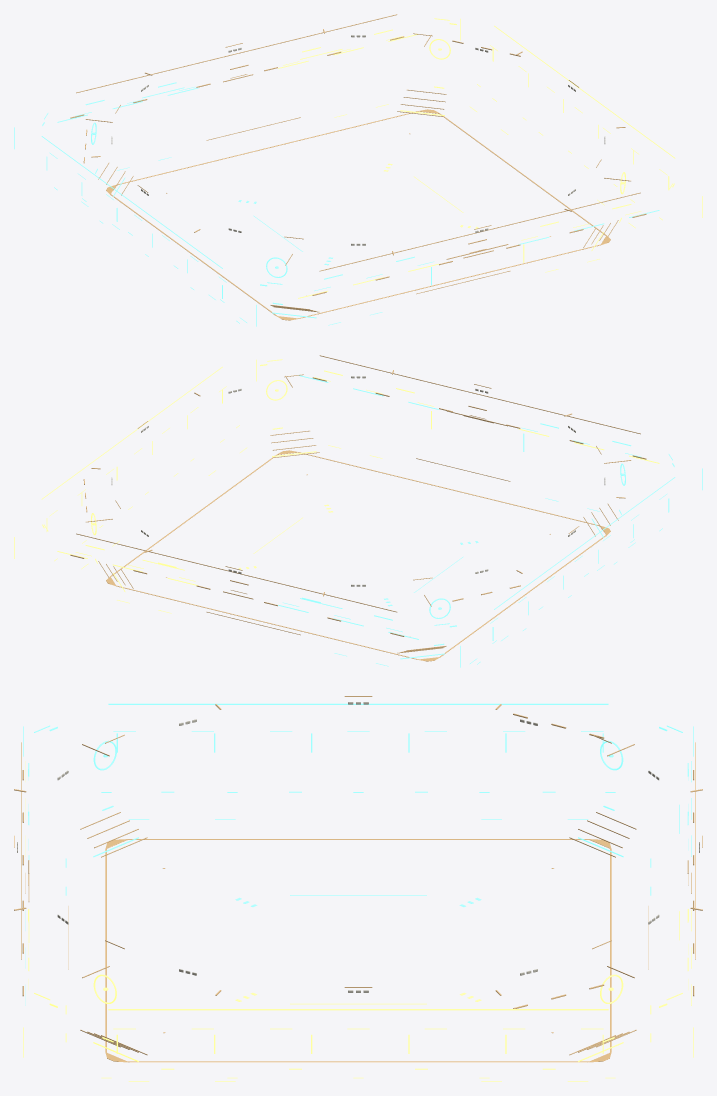
The model's file is SM_BobStadium_Lights.fbx.
The picture shows the model from 3 angles, top to bottom: view 1: azimuth 30°, elevation 25°; view 2: azimuth 150°, elevation 25°; view 3: azimuth 270°, elevation 25°; orthographic projection. The views are drawn at different scales.
Parts seen in each view (by area): view 1: SM_BobStadium_Lights; view 2: SM_BobStadium_Lights; view 3: SM_BobStadium_Lights.
Part boxes in pixels (x1=…): SM_BobStadium_Lights: x1=14, y1=14, x2=702, y2=326; SM_BobStadium_Lights: x1=14, y1=355, x2=702, y2=667; SM_BobStadium_Lights: x1=14, y1=696, x2=702, y2=1081.
Bounding box in the file's own units: 4020 × 3829 × 671.
